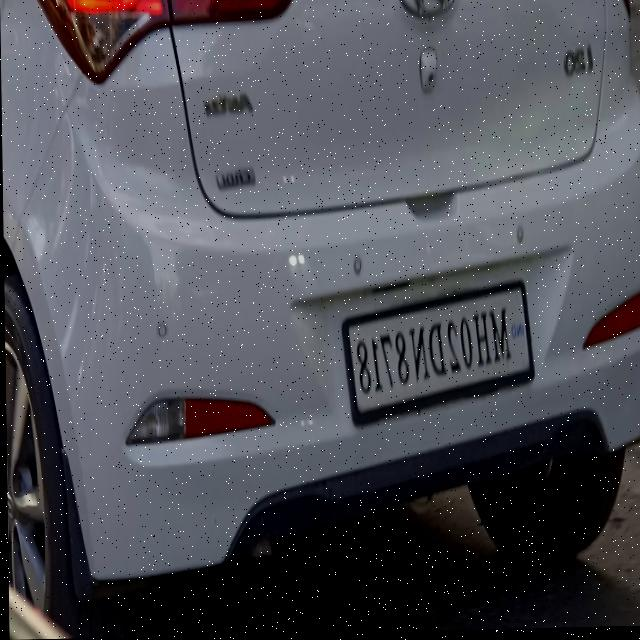plate: (337, 277, 537, 441)
